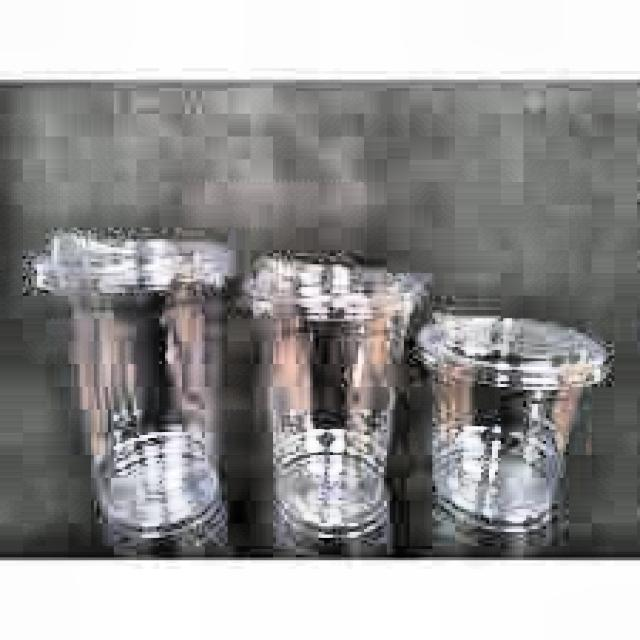plastic cup: (56, 286, 240, 529), (248, 297, 415, 533), (426, 365, 589, 529)
